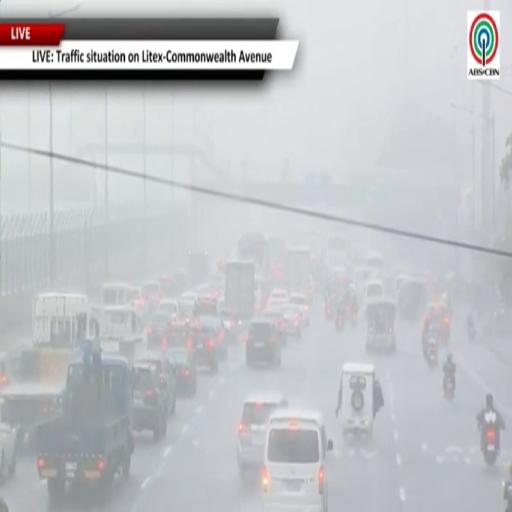car: (262, 409, 332, 511), (237, 394, 288, 478), (132, 363, 167, 441), (138, 356, 177, 415), (246, 318, 281, 367), (187, 325, 219, 373), (166, 348, 197, 396), (194, 314, 227, 359), (146, 311, 172, 350), (261, 307, 287, 345), (0, 423, 16, 476), (282, 303, 302, 338), (289, 294, 309, 326), (141, 281, 161, 310), (193, 295, 218, 316), (158, 299, 178, 322), (267, 289, 289, 307)
motorcycle: (481, 424, 498, 466), (426, 339, 437, 367), (345, 304, 357, 328), (444, 376, 455, 401), (504, 479, 511, 511), (335, 312, 345, 332), (325, 300, 334, 322), (468, 326, 476, 342)
truck: (0, 293, 97, 444), (36, 355, 133, 502), (99, 306, 146, 361), (224, 262, 255, 321), (237, 232, 267, 271), (286, 248, 311, 293), (189, 251, 209, 285)
